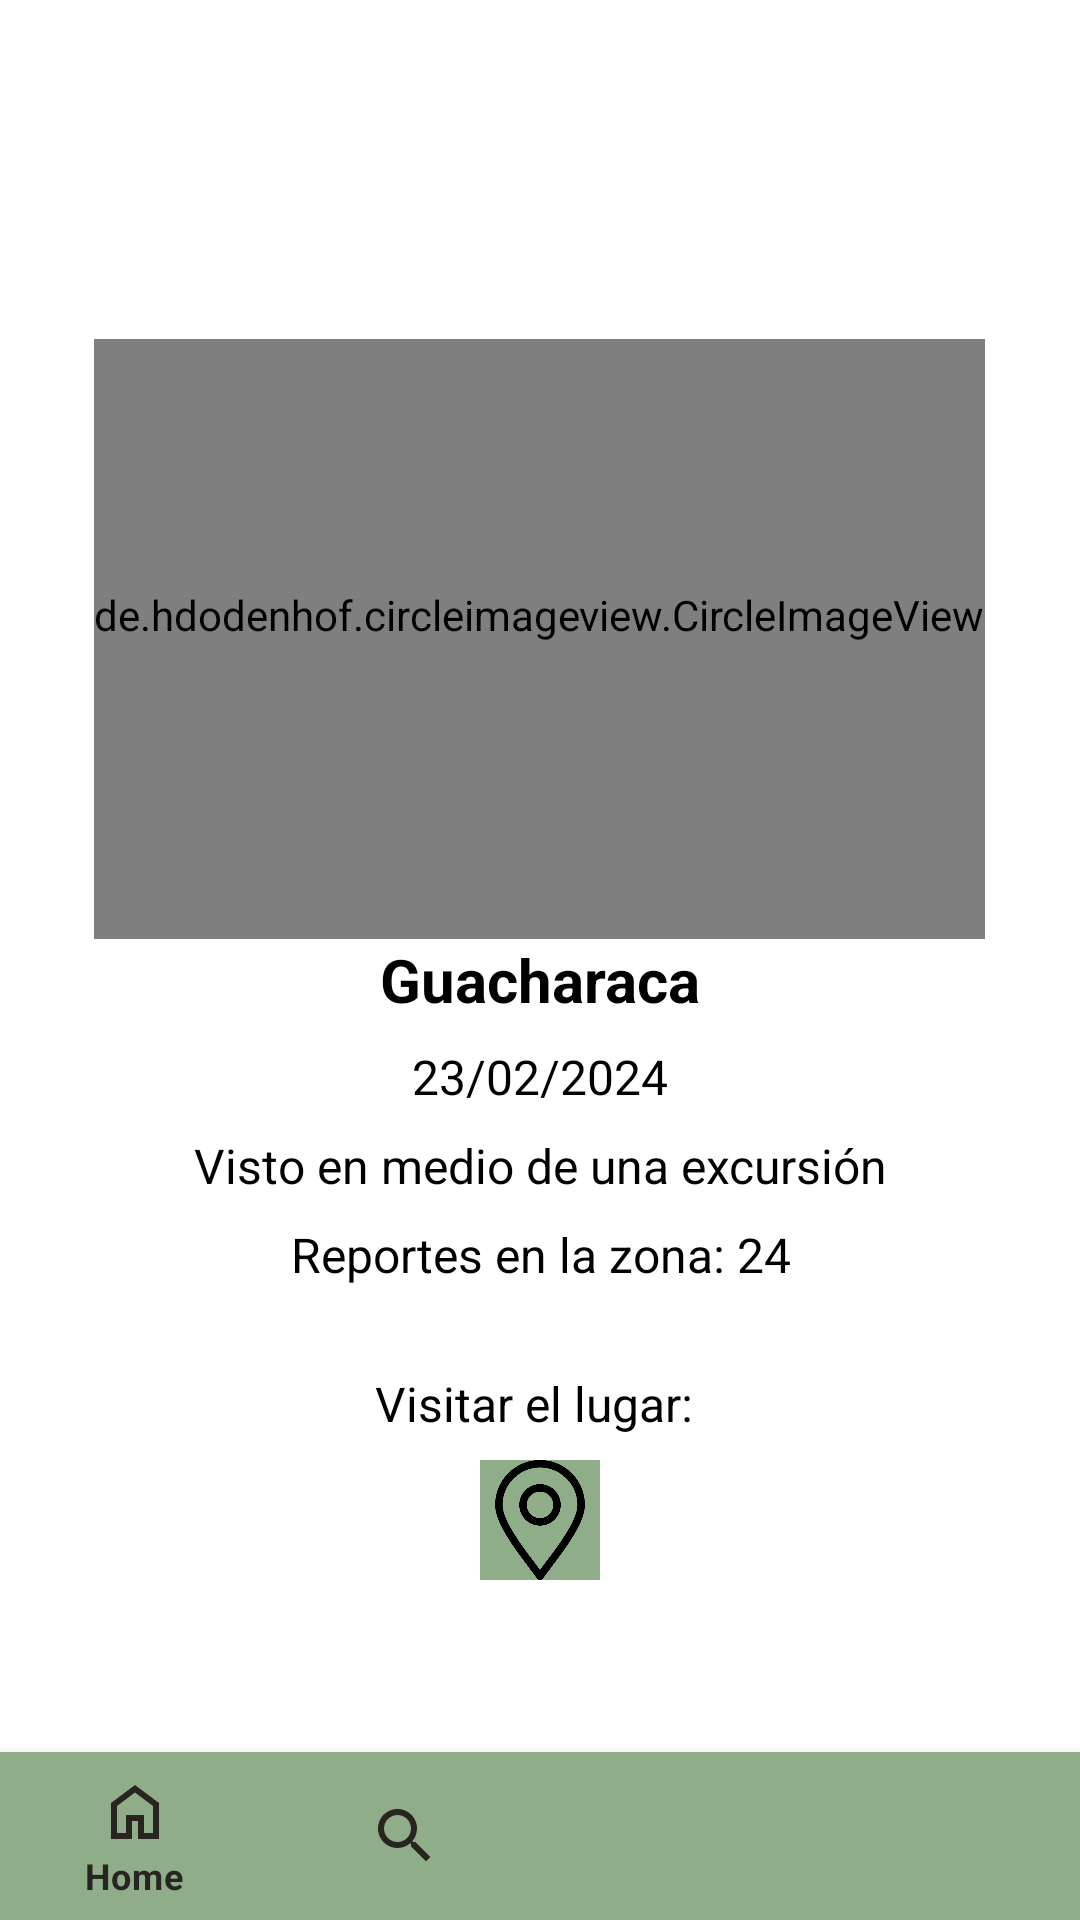

Screen size 1080 x 1920. Icon name, then its box in pixels as (x1, y1, x2, y2):
location: (480, 1460, 600, 1580)
